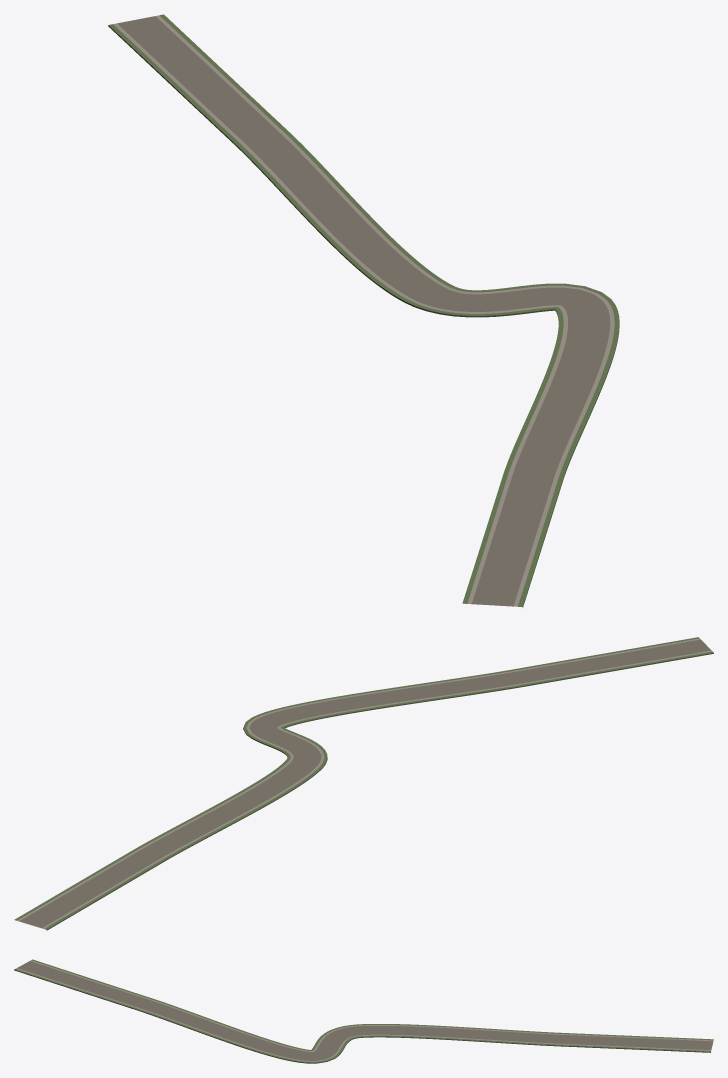
Rendered from road_roam_from_stage_marathon.glb.
3 views of the same model, one above another, from view 1: azimuth 30°, elevation 25°; view 2: azimuth 150°, elevation 25°; view 3: azimuth 270°, elevation 25° (orthographic). The views are drawn at different scales.
Parts seen in each view (by area): view 1: road; view 2: road; view 3: road.
Part boxes in pixels (bbox=[...]): road: bbox=[108, 14, 619, 607]; road: bbox=[14, 637, 713, 930]; road: bbox=[14, 959, 713, 1063].
Size of the model in its own units: 96.39 by 0.32 by 276.
